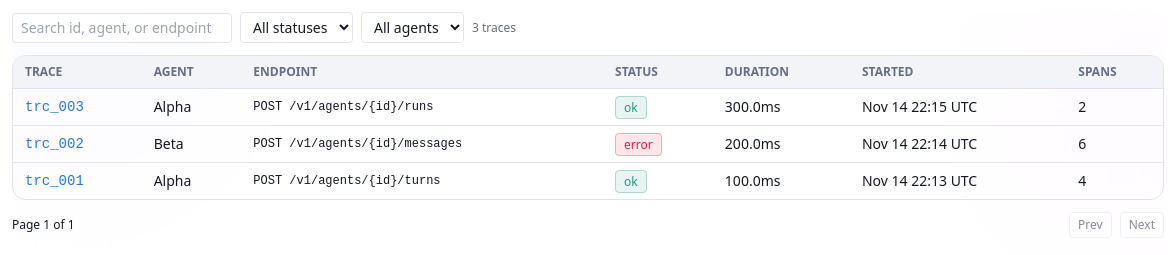
Scenario: TraceList › supports free-text search across endpoint
Type "messages" into the field with test id "trace-search" at (122, 28), box [12, 12, 232, 42]
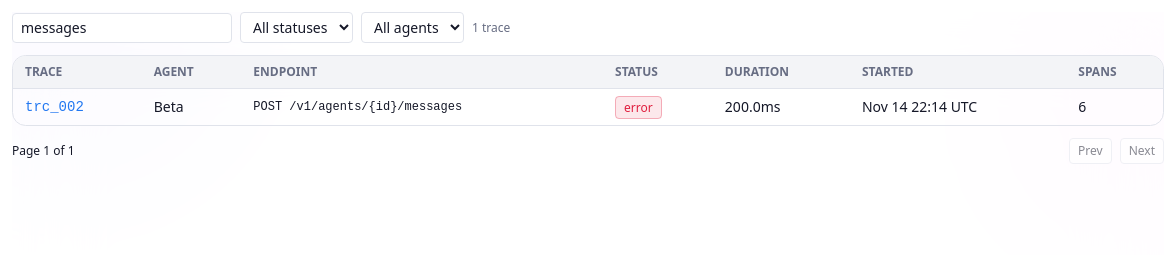
Check: the row with test id "trace-row-trc_002" is shown, box [13, 88, 1163, 125]
Check: the row with test id "trace-row-trc_001" is gone
